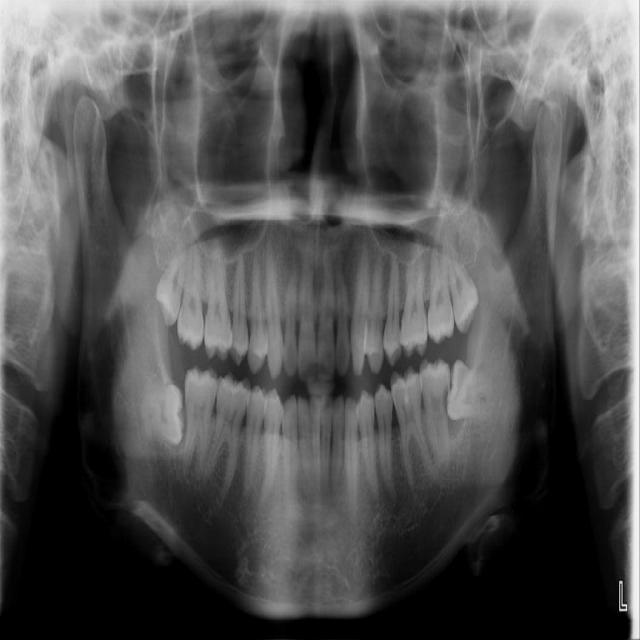impacted tooth: (135, 383, 182, 448), (448, 360, 493, 420), (154, 241, 185, 326)
